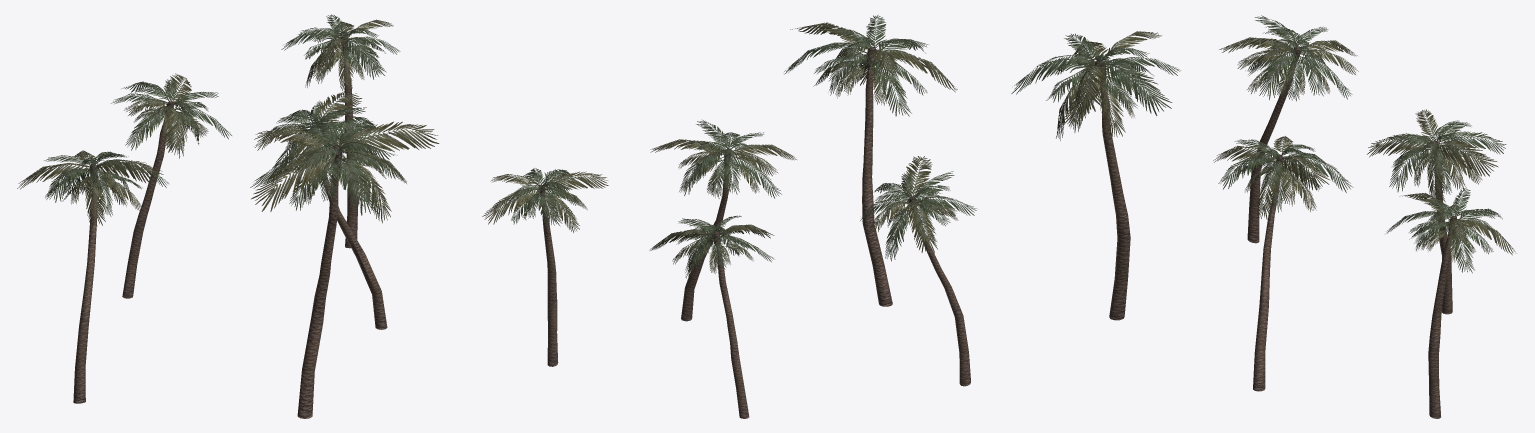
Rendered from Palm Tree.fbx.
The picture shows the model from 3 angles, left to right: view 1: azimuth 30°, elevation 25°; view 2: azimuth 150°, elevation 25°; view 3: azimuth 270°, elevation 25°; orthographic projection. The views are drawn at different scales.
Visible parts, largest first — view 1: Palm Tree By Hamza_002, Palm Tree By Hamza_003, Palm Tree By Hamza_004, Palm Tree By Hamza_006, Palm Tree By Hamza_005; view 2: Palm Tree By Hamza_002, Palm Tree By Hamza_003, Palm Tree By Hamza_005, Palm Tree By Hamza_006, Palm Tree By Hamza_004; view 3: Palm Tree By Hamza_002, Palm Tree By Hamza_005, Palm Tree By Hamza_003, Palm Tree By Hamza_004, Palm Tree By Hamza_006.
Part boxes in pixels (x1=…): Palm Tree By Hamza_002: x1=250, y1=116, x2=439, y2=418; Palm Tree By Hamza_003: x1=17, y1=150, x2=168, y2=403; Palm Tree By Hamza_004: x1=111, y1=73, x2=231, y2=298; Palm Tree By Hamza_006: x1=281, y1=14, x2=400, y2=248; Palm Tree By Hamza_005: x1=255, y1=91, x2=387, y2=329; Palm Tree By Hamza_002: x1=784, y1=14, x2=957, y2=306; Palm Tree By Hamza_003: x1=860, y1=156, x2=976, y2=386; Palm Tree By Hamza_005: x1=650, y1=120, x2=796, y2=321; Palm Tree By Hamza_006: x1=482, y1=168, x2=608, y2=366; Palm Tree By Hamza_004: x1=650, y1=215, x2=774, y2=418; Palm Tree By Hamza_002: x1=1011, y1=31, x2=1180, y2=320; Palm Tree By Hamza_005: x1=1213, y1=136, x2=1353, y2=391; Palm Tree By Hamza_003: x1=1219, y1=15, x2=1358, y2=243; Palm Tree By Hamza_004: x1=1367, y1=109, x2=1506, y2=314; Palm Tree By Hamza_006: x1=1386, y1=187, x2=1516, y2=418.
Bounding box in the file's own units: 16.8 × 10.29 × 16.89.
